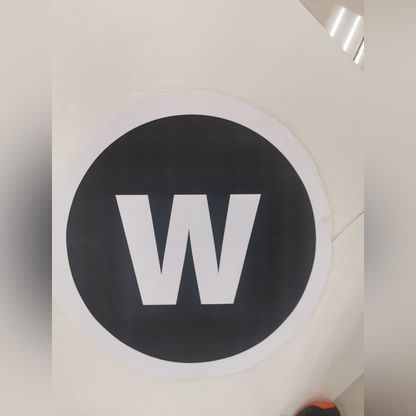W: (104, 156, 291, 337)
